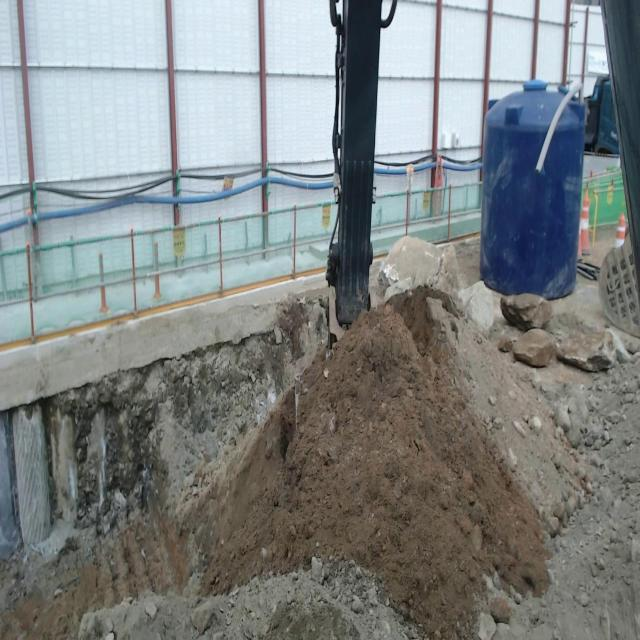red-sand: (211, 305, 547, 638)
stone: (554, 330, 616, 372), (501, 293, 553, 331), (512, 328, 556, 367)
white-sand: (0, 289, 640, 639)
